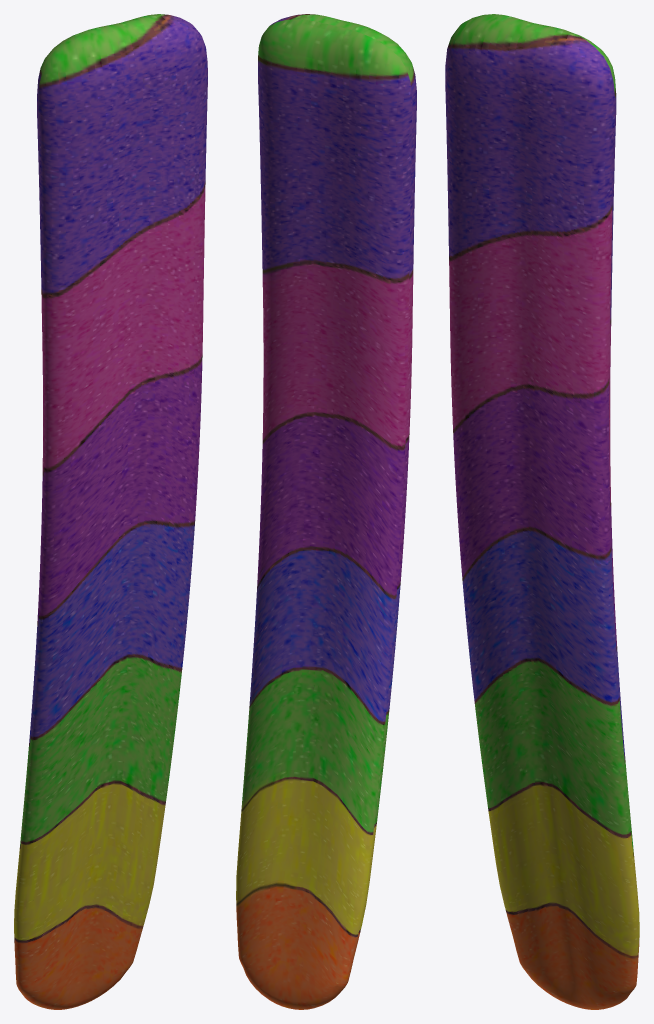
Rendered from PlayerBreakedTongue3.fbx.
3 renders of one model, left to right at view 1: azimuth 30°, elevation 25°; view 2: azimuth 150°, elevation 25°; view 3: azimuth 330°, elevation 25°, orthographic. The views are drawn at different scales.
Parts seen in each view (by area): view 1: polySurface1, polySurface2; view 2: polySurface1, polySurface2; view 3: polySurface1, polySurface2.
Boxes of the visible parts, bbox=[...] form: polySurface1: bbox=[14, 447, 199, 1009]; polySurface2: bbox=[37, 14, 207, 482]; polySurface1: bbox=[236, 416, 408, 1009]; polySurface2: bbox=[258, 14, 416, 450]; polySurface1: bbox=[453, 446, 639, 1009]; polySurface2: bbox=[445, 14, 616, 482].
Size of the model in its own units: 73.5 by 434 by 56.69.
